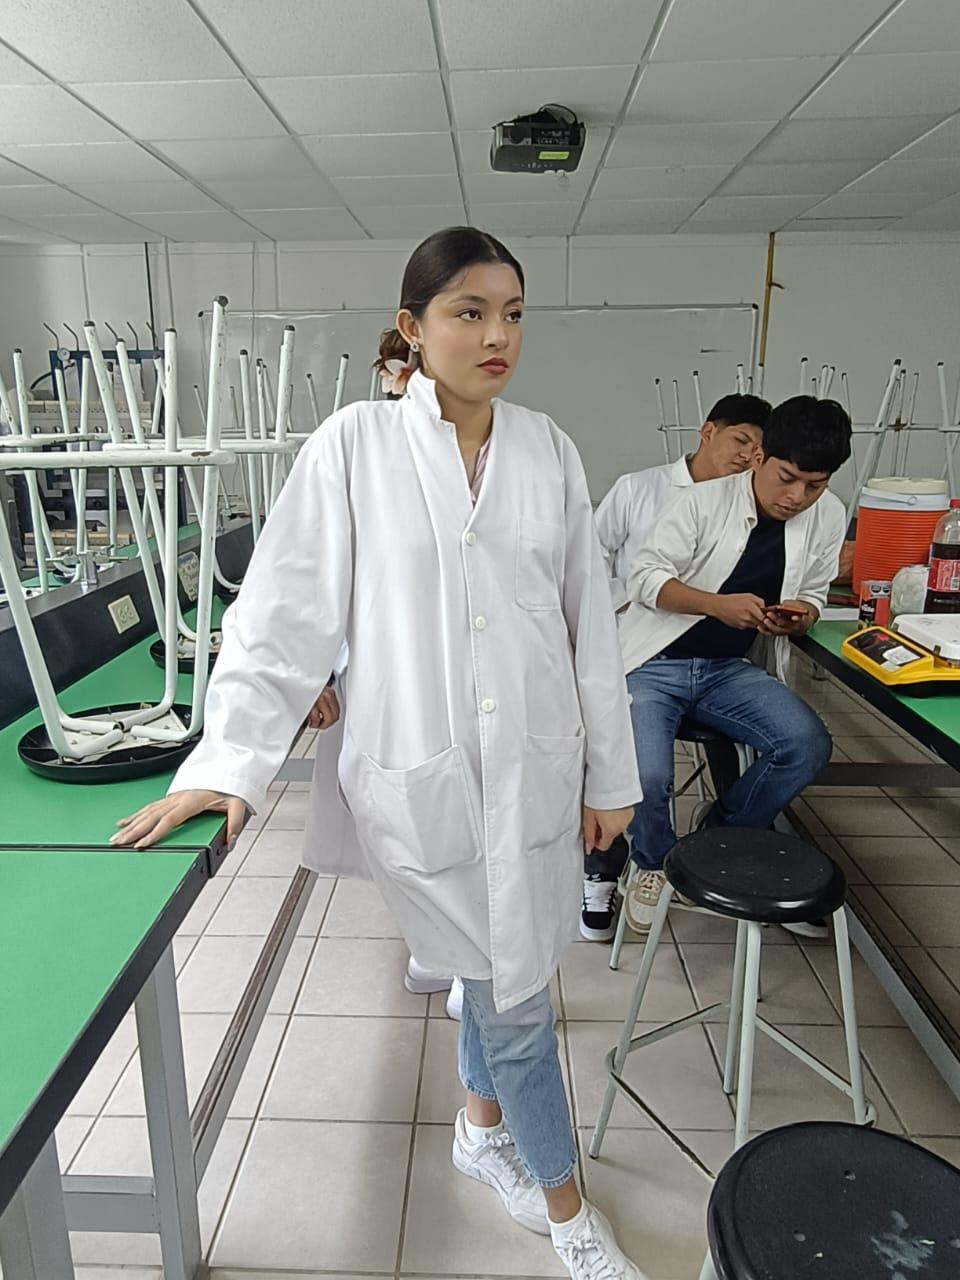Bata-Correcta: (113, 227, 644, 1279)
Bata-Incorrecta: (627, 396, 851, 932)
